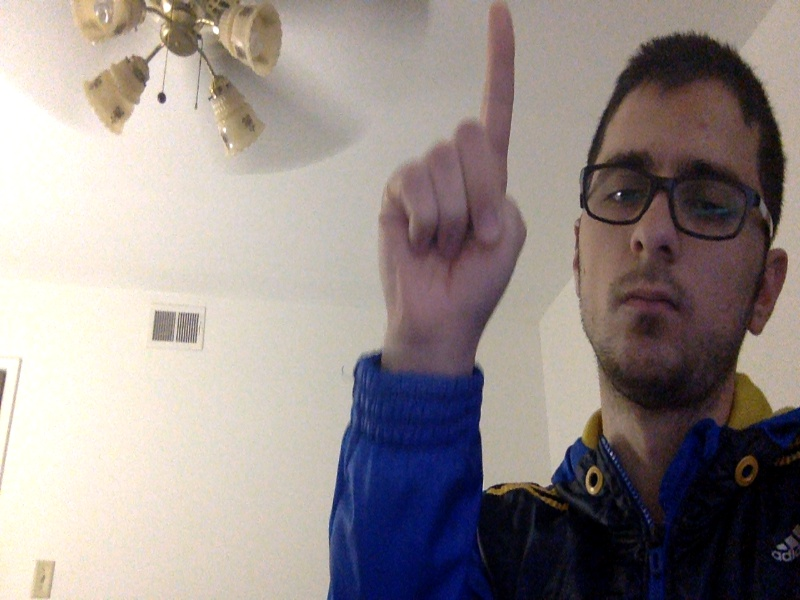1-hand: (373, 3, 527, 365)
